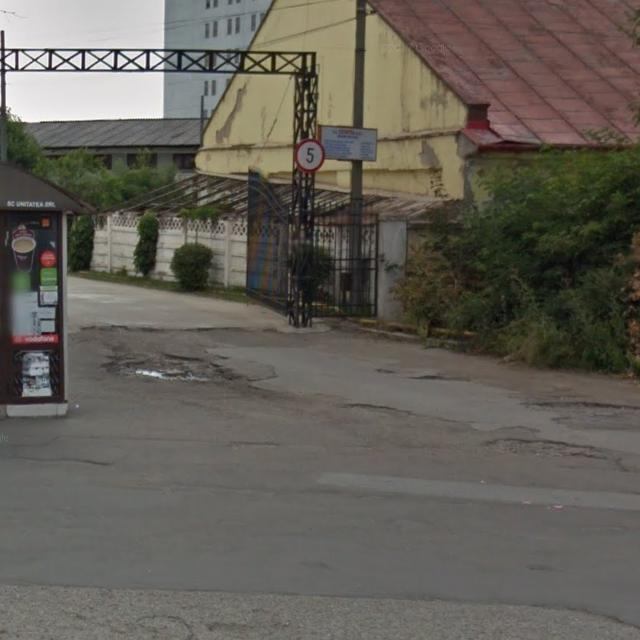forb_speed_over_5: (294, 138, 326, 172)
